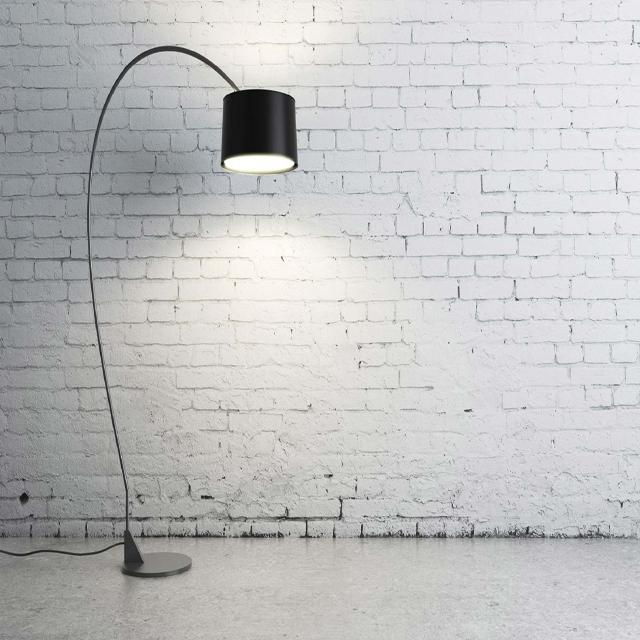floor: (0, 537, 640, 640), (0, 537, 124, 554)
